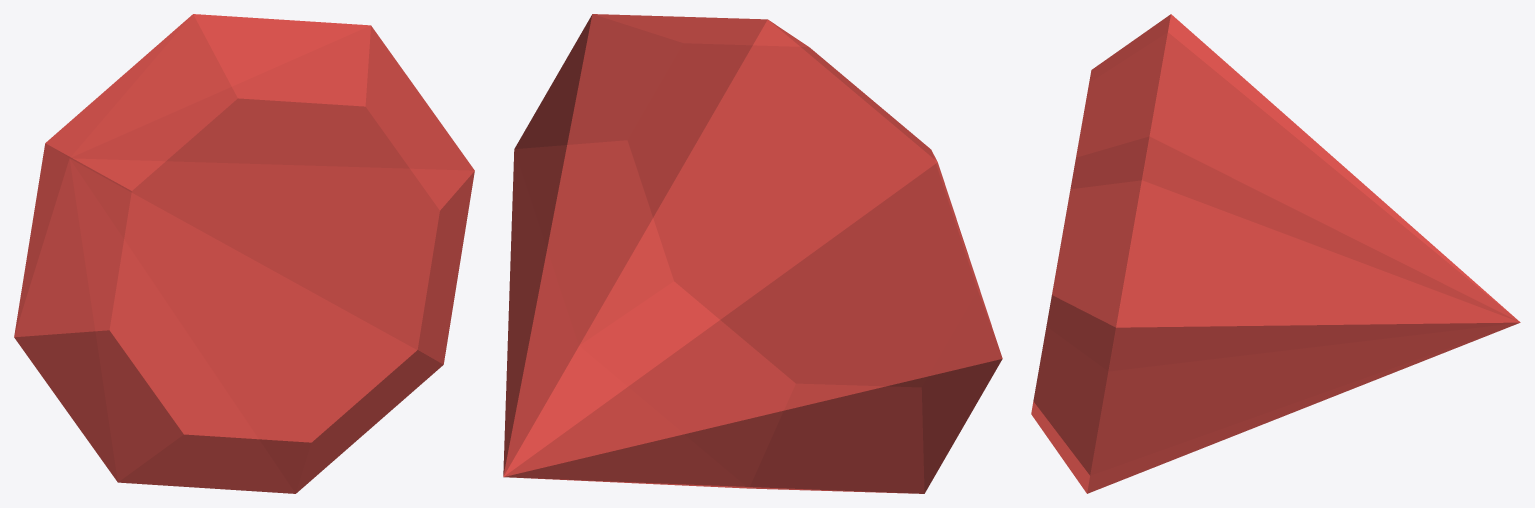
File: PrototypeGem3.fbx
The picture shows the model from 3 angles, left to right: view 1: azimuth 30°, elevation 25°; view 2: azimuth 150°, elevation 25°; view 3: azimuth 270°, elevation 25°; orthographic projection. The views are drawn at different scales.
Visible parts, largest first — view 1: Ruby.001; view 2: Ruby.001; view 3: Ruby.001.
Part boxes in pixels (box(x1,y1,x2,y2)): Ruby.001: box(14, 14, 474, 493); Ruby.001: box(503, 14, 1002, 493); Ruby.001: box(1031, 14, 1520, 493).
Size of the model in its own units: 76.84 by 75.98 by 74.66.
